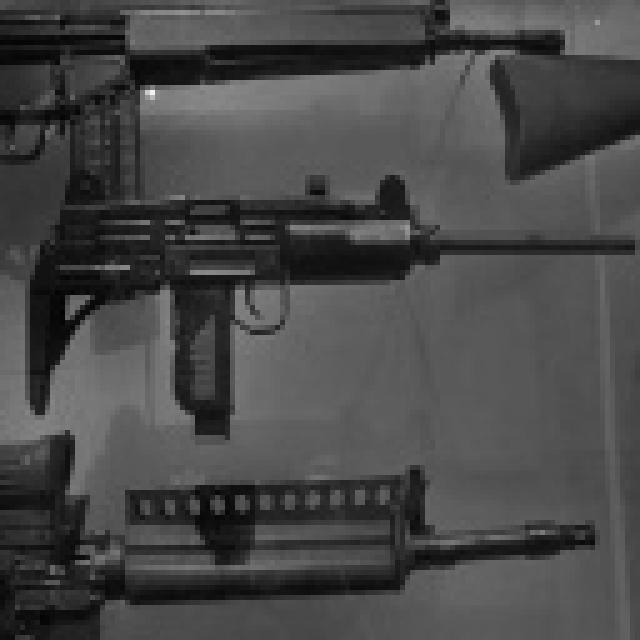Rifle: (0, 129, 640, 442), (0, 392, 614, 640), (0, 0, 582, 206)
